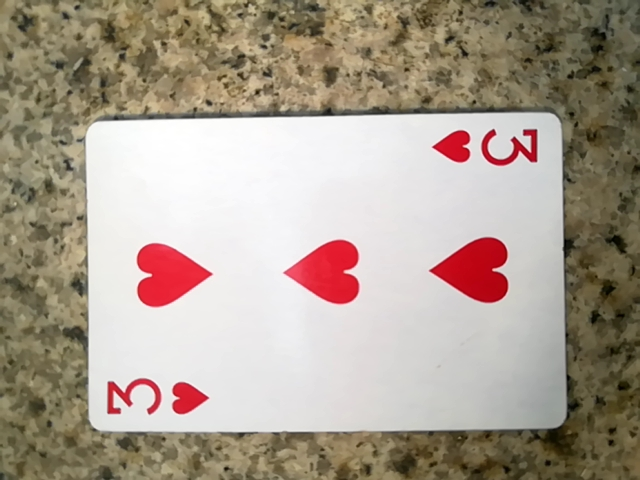hx 3: (72, 112, 563, 443)
